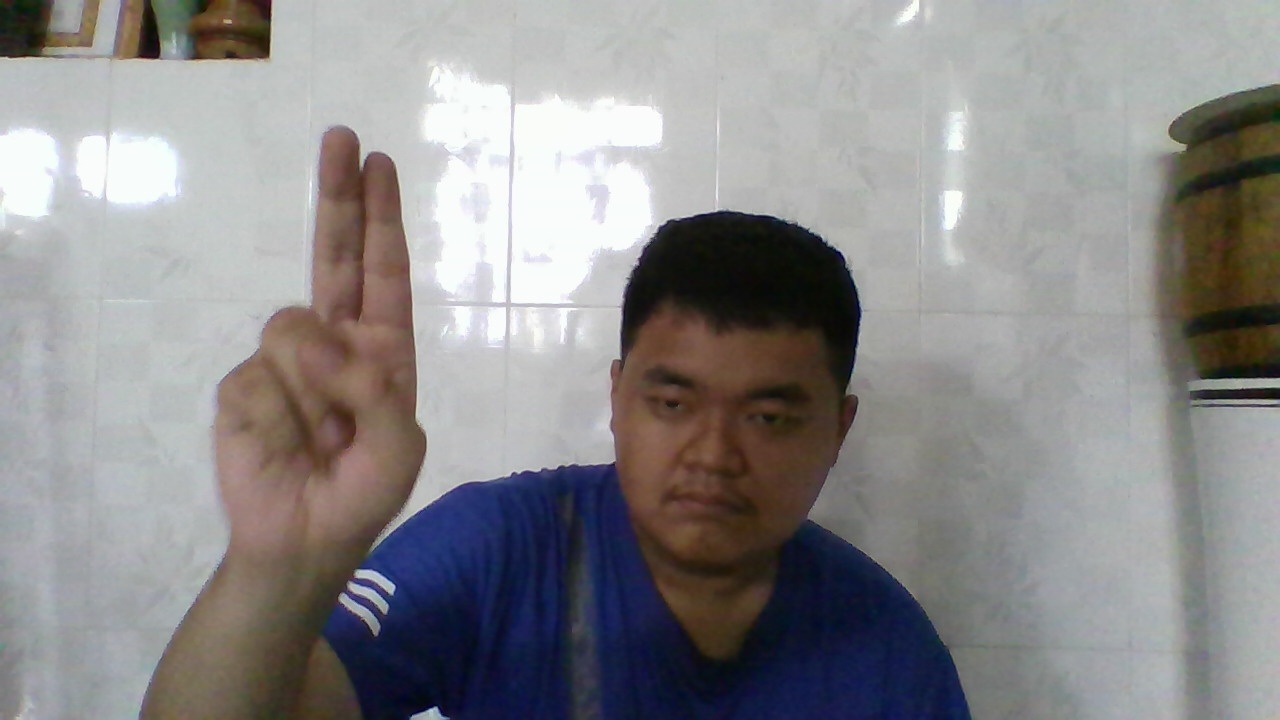U: (222, 128, 417, 559)
